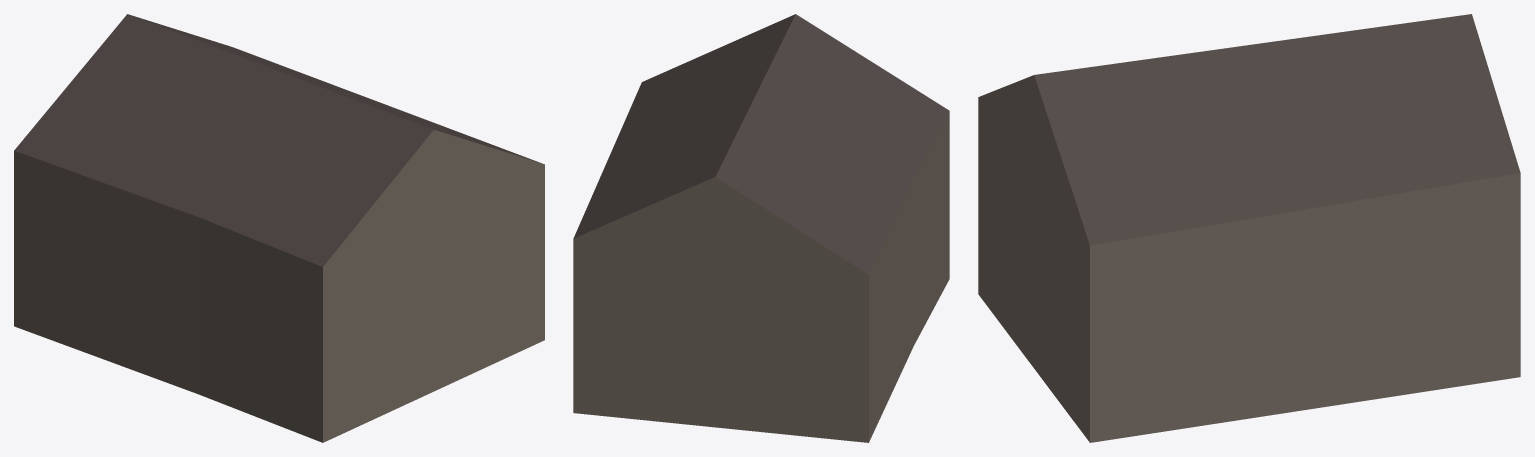
3 renders of one model, left to right at view 1: azimuth 30°, elevation 25°; view 2: azimuth 150°, elevation 25°; view 3: azimuth 270°, elevation 25°, orthographic. The views are drawn at different scales.
Parts seen in each view (by area): view 1: HP-w1196401643; view 2: HP-w1196401643; view 3: HP-w1196401643.
Part boxes in pixels (x1,y1,x2,y2): HP-w1196401643: (14,14,544,442); HP-w1196401643: (573,14,949,442); HP-w1196401643: (978,14,1520,442).
Size of the model in its own units: 20.57 by 13.41 by 22.44.
